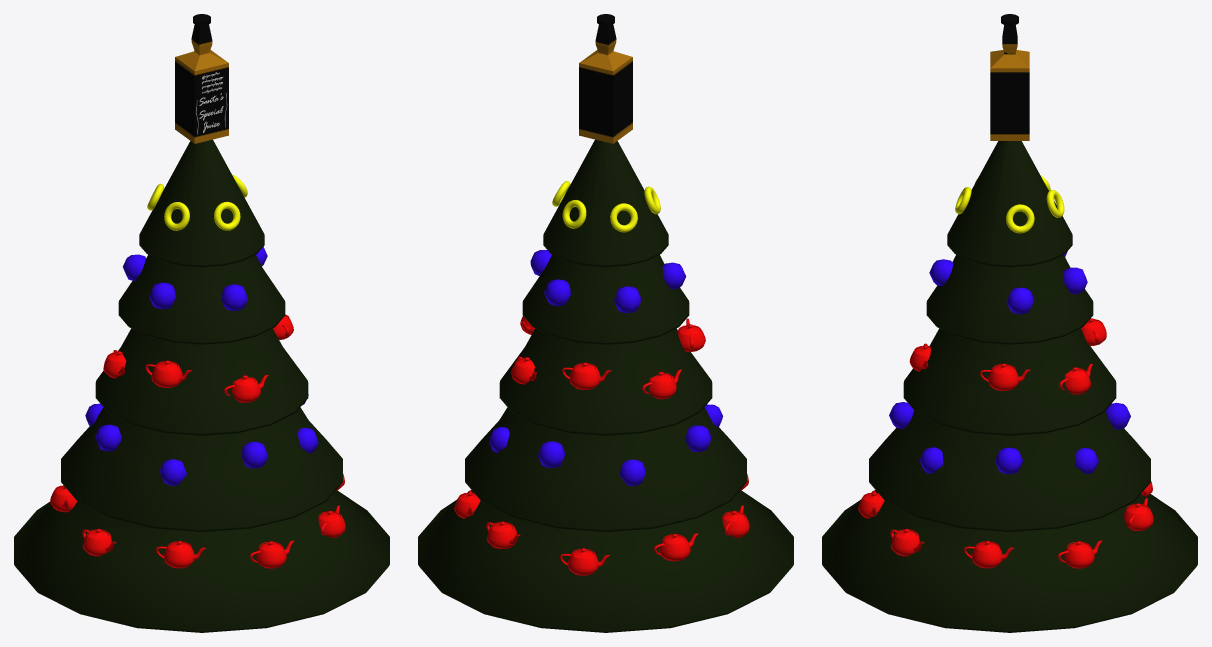
Rendered from XmasTree.FBX.
3 renders of one model, left to right at view 1: azimuth 30°, elevation 25°; view 2: azimuth 150°, elevation 25°; view 3: azimuth 270°, elevation 25°, orthographic.
Parts seen in each view (by area): view 1: Tree, 2, Jack, 1, 3; view 2: Tree, 2, Jack, 1, 3; view 3: Tree, 2, 1, Jack, 3.
Part boxes in pixels (bbox=[...]): Tree: bbox=[14, 139, 389, 632]; 2: bbox=[50, 314, 345, 568]; Jack: bbox=[175, 14, 228, 143]; 1: bbox=[85, 247, 318, 485]; 3: bbox=[147, 174, 247, 230]; Tree: bbox=[418, 139, 793, 632]; 2: bbox=[454, 316, 749, 575]; Jack: bbox=[579, 14, 632, 143]; 1: bbox=[489, 250, 722, 485]; 3: bbox=[552, 181, 660, 232]; Tree: bbox=[822, 141, 1197, 632]; 2: bbox=[858, 318, 1153, 568]; 1: bbox=[889, 251, 1130, 474]; Jack: bbox=[990, 14, 1029, 140]; 3: bbox=[955, 175, 1064, 233].
Bounding box in the file's own units: 52.88 × 91.07 × 52.08.
